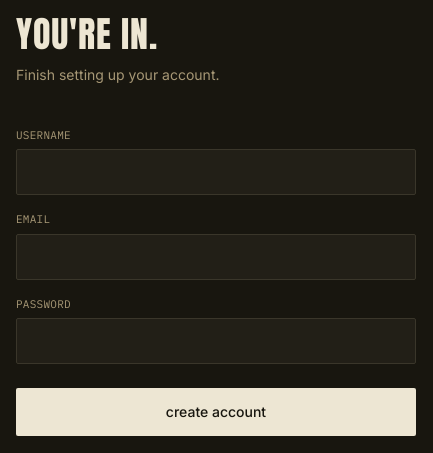
RegisterForm mid-flow invite invalidation › offers a retry (not a dead end) when the GPS proximity check fails
The image size is (433, 453).
Type "newuser" into the field labelled "username" at coordinates (216, 172), box [16,149,416,195]
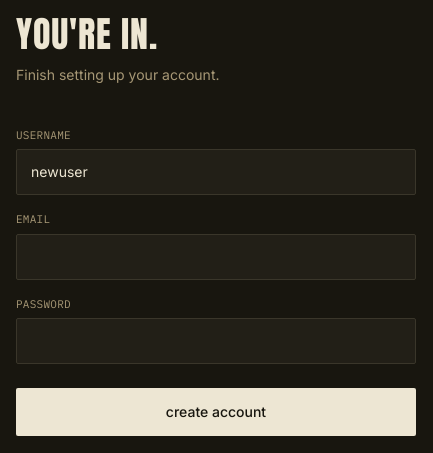
Type "new@example.com" into the field labelled "email" at coordinates (216, 257), box [16,234,416,280]
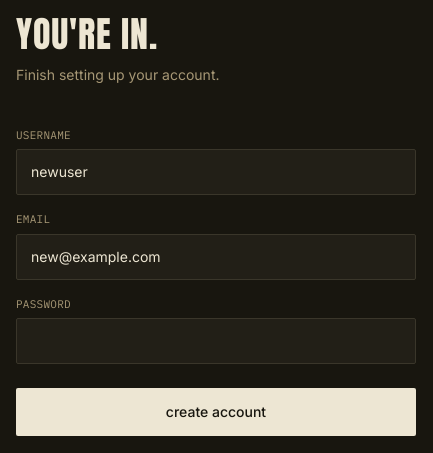
Type "hunter22" into the password field labelled "password" at coordinates (216, 341), box [16,318,416,364]
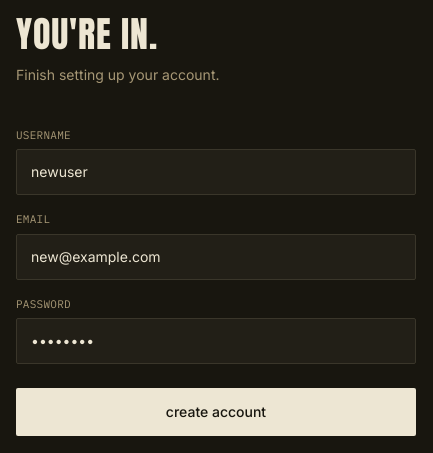
Click the button "create account" at coordinates (216, 412), box [16,388,416,436]
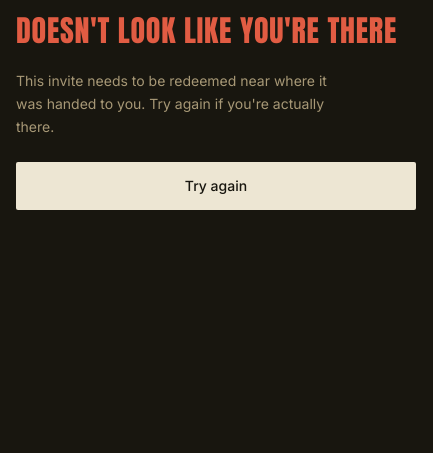
Check: the heading "DOESN'T LOOK LIKE YOU'RE THERE" is shown, box [16,16,416,46]
